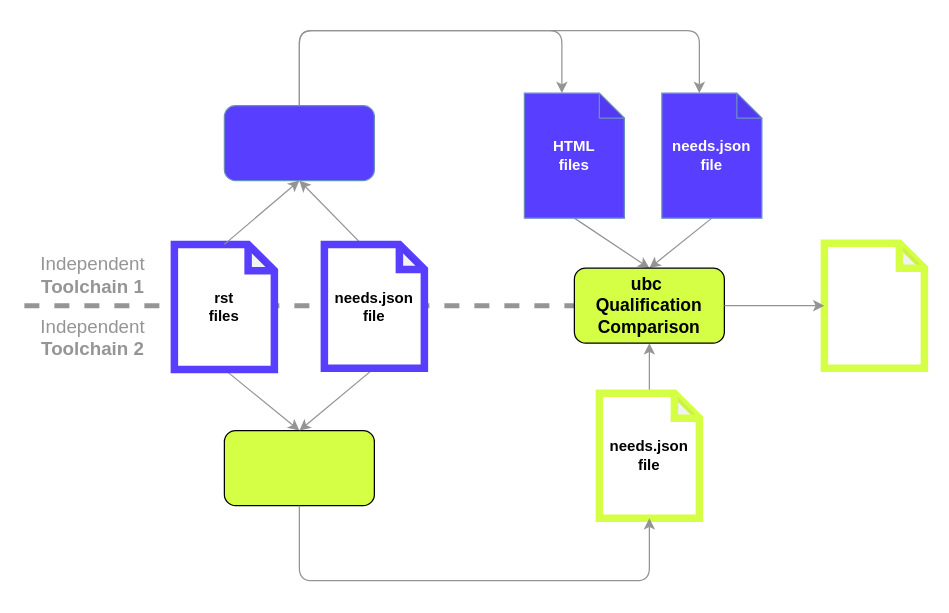
Image size: 949x613. Some labels were removed from this diagram. The shapes that lost their labels are listed below. From the top down, each one's box as (x1, y1, x2, y2) in pixels, then its label:
(223, 104, 374, 181): Sphinx Build
(820, 239, 928, 371): Qualification Report
(223, 429, 374, 506): ubc Build
